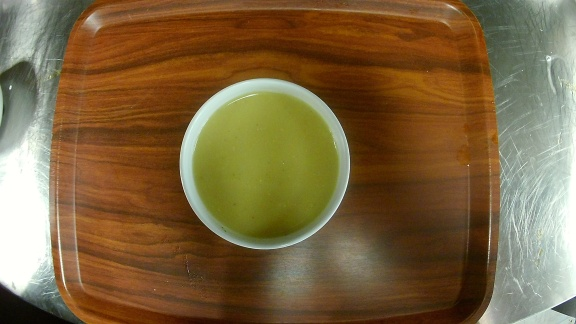mercimek: (175, 77, 353, 250)
